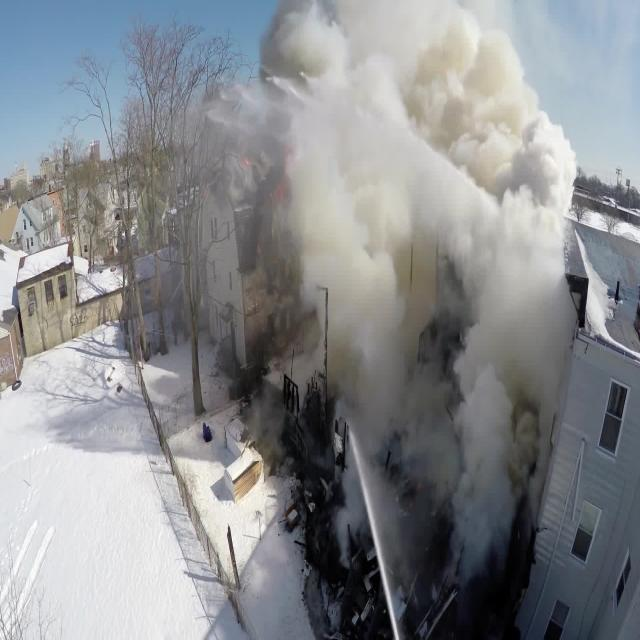Smoke: (219, 0, 573, 509)
